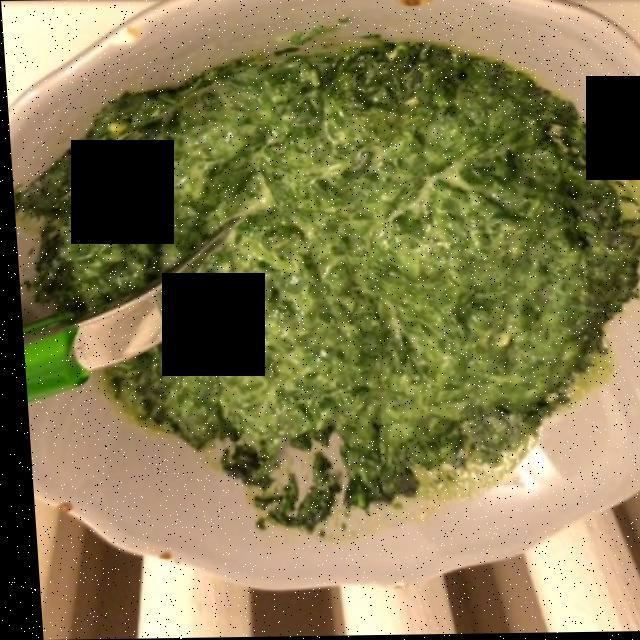cream-spinach: (29, 42, 636, 527)
